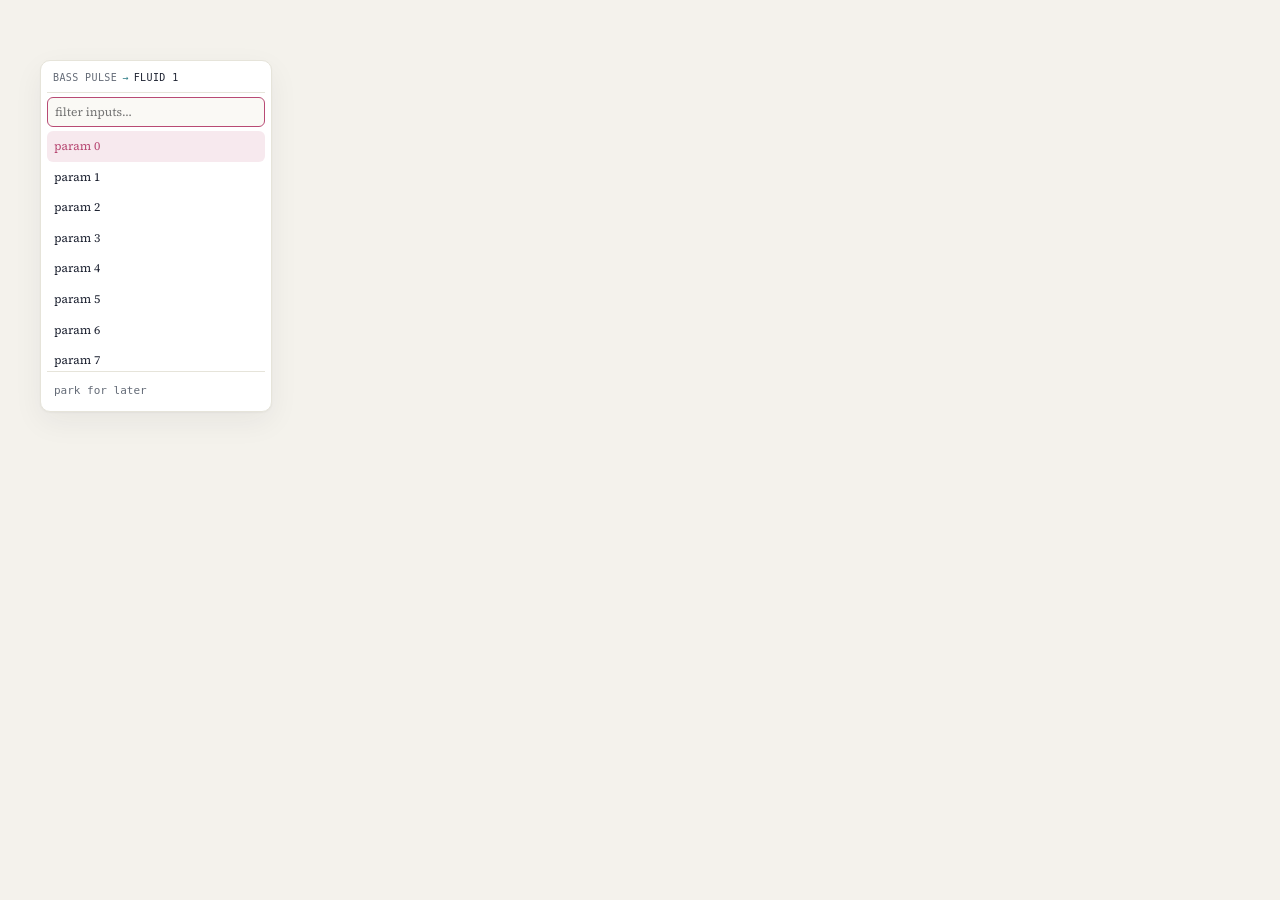
Test: PortDropMenu › says so when the filter matches nothing, instead of an empty box
Type "zzz" into the field labelled "filter inputs".
click(156, 112); type("zzz")  # box [47, 96, 265, 127]
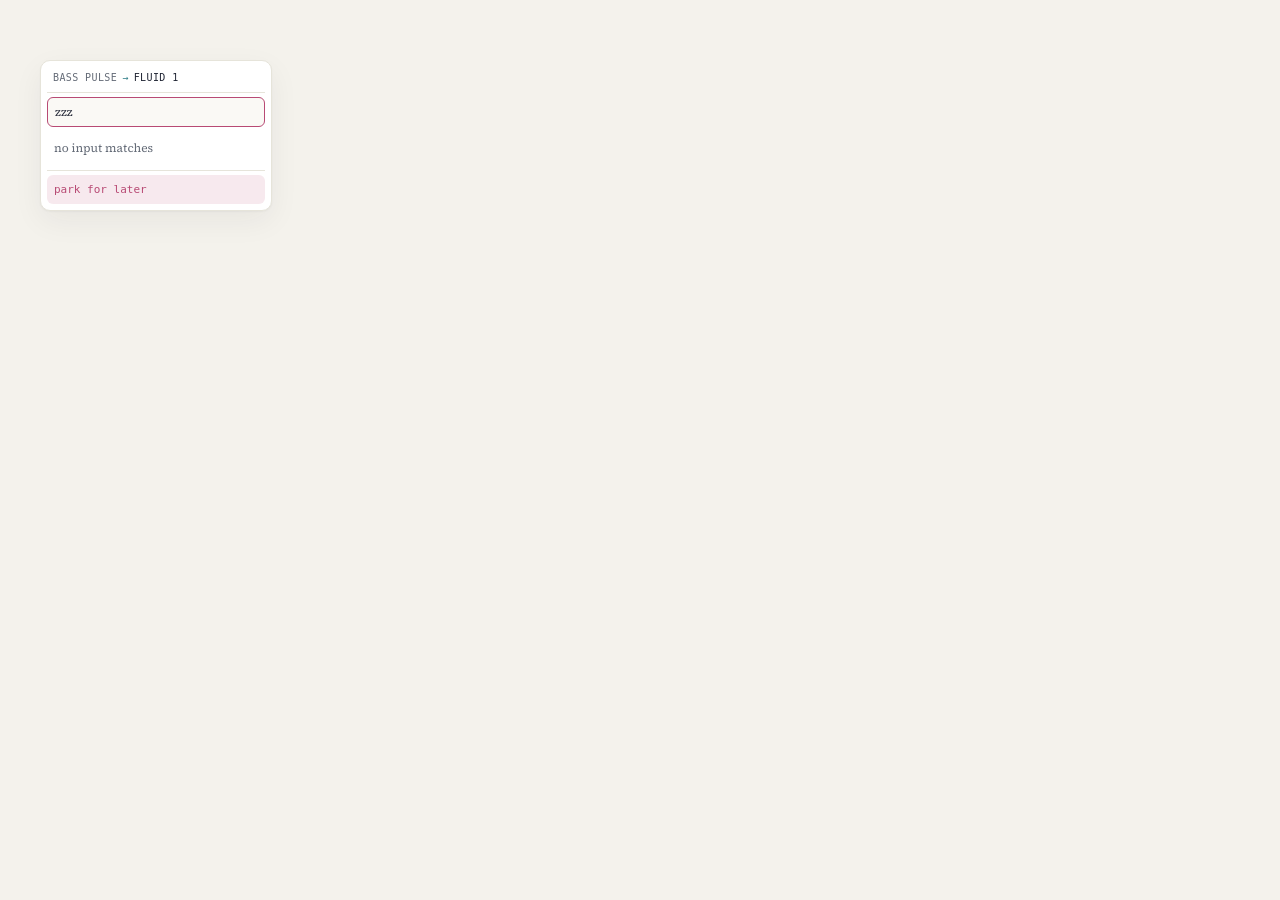
Expected: the text "no input matches" is shown, [54, 140, 153, 156]
